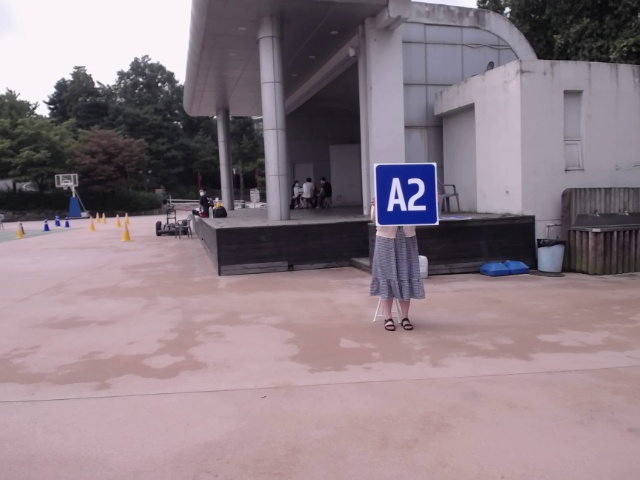delivery_a2: (374, 164, 439, 226)
